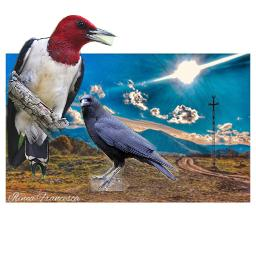Crow: (77, 94, 179, 191)
Woodpecker: (2, 15, 120, 179)
